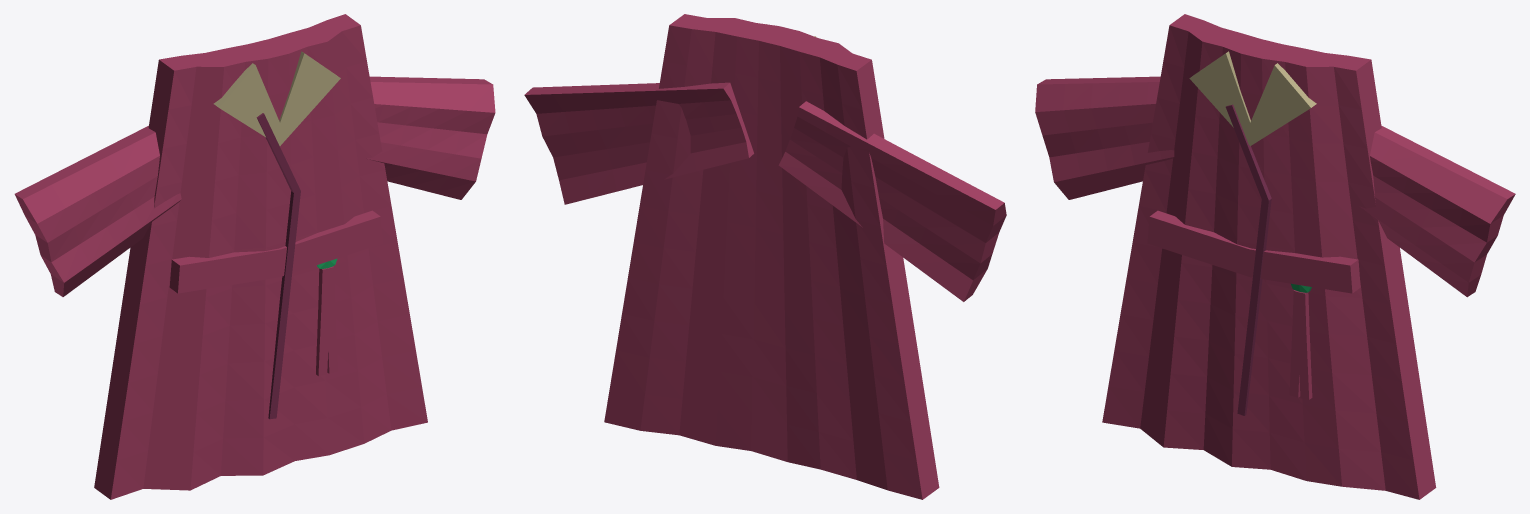
The model's file is wide_blue.obj.
The picture shows the model from 3 angles, left to right: view 1: azimuth 30°, elevation 25°; view 2: azimuth 150°, elevation 25°; view 3: azimuth 330°, elevation 25°; orthographic projection.
Parts seen in each view (by area): view 1: legacy_robe, legacy_sleeve_-1_legacy_sleeve, legacy_sleeve_1_legacy_sleeve, legacy_robe_edge, legacy_belt, legacy_collar, legacy_overlap, legacy_sleeve_-1_legacy_sleeve_edge, legacy_belt_edge, legacy_charm_strand_00, legacy_overlap_edge, legacy_charm_strand_01 (+2 smaller); view 2: legacy_robe_back, legacy_sleeve_1_legacy_sleeve_back, legacy_sleeve_-1_legacy_sleeve_back, legacy_robe_edge, legacy_sleeve_-1_legacy_sleeve_edge, legacy_sleeve_1_legacy_sleeve_edge; view 3: legacy_robe, legacy_sleeve_1_legacy_sleeve, legacy_sleeve_-1_legacy_sleeve, legacy_robe_edge, legacy_belt, legacy_collar, legacy_overlap, legacy_sleeve_1_legacy_sleeve_edge, legacy_belt_edge, legacy_charm_strand_00, legacy_overlap_edge, legacy_charm_strand_01 (+1 smaller).
Boxes of the visible parts, x1,y1,x2,y2 form: legacy_robe: [111, 25, 427, 499]; legacy_sleeve_-1_legacy_sleeve: [23, 132, 181, 296]; legacy_sleeve_1_legacy_sleeve: [366, 82, 495, 199]; legacy_robe_edge: [94, 14, 360, 499]; legacy_belt: [178, 216, 382, 293]; legacy_collar: [219, 53, 340, 145]; legacy_overlap: [258, 114, 300, 419]; legacy_sleeve_-1_legacy_sleeve_edge: [14, 125, 155, 296]; legacy_belt_edge: [169, 210, 380, 293]; legacy_charm_strand_00: [318, 268, 331, 375]; legacy_overlap_edge: [256, 113, 293, 418]; legacy_charm_strand_01: [328, 267, 338, 373]; legacy_robe_back: [604, 25, 922, 499]; legacy_sleeve_1_legacy_sleeve_back: [524, 88, 748, 204]; legacy_sleeve_-1_legacy_sleeve_back: [778, 107, 995, 301]; legacy_robe_edge: [669, 14, 939, 499]; legacy_sleeve_-1_legacy_sleeve_edge: [799, 101, 1006, 301]; legacy_sleeve_1_legacy_sleeve_edge: [524, 82, 753, 157]; legacy_robe: [1102, 25, 1419, 499]; legacy_sleeve_1_legacy_sleeve: [1359, 132, 1507, 296]; legacy_sleeve_-1_legacy_sleeve: [1035, 82, 1174, 199]; legacy_robe_edge: [1170, 14, 1436, 499]; legacy_belt: [1147, 217, 1352, 293]; legacy_collar: [1189, 53, 1310, 146]; legacy_overlap: [1225, 105, 1268, 415]; legacy_sleeve_1_legacy_sleeve_edge: [1375, 125, 1515, 296]; legacy_belt_edge: [1150, 210, 1360, 293]; legacy_charm_strand_00: [1289, 291, 1302, 397]; legacy_overlap_edge: [1226, 104, 1271, 415]; legacy_charm_strand_01: [1296, 292, 1309, 399].
Bounding box in the file's own units: 2.32 × 1.95 × 0.2723.
